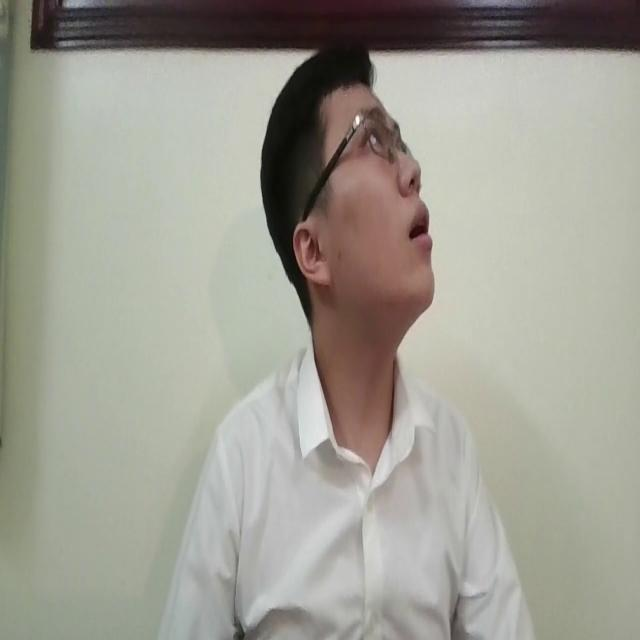student: (151, 32, 534, 640)
